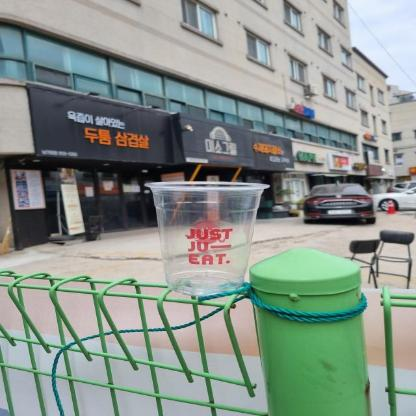Plastic Cup: (144, 181, 272, 298)
